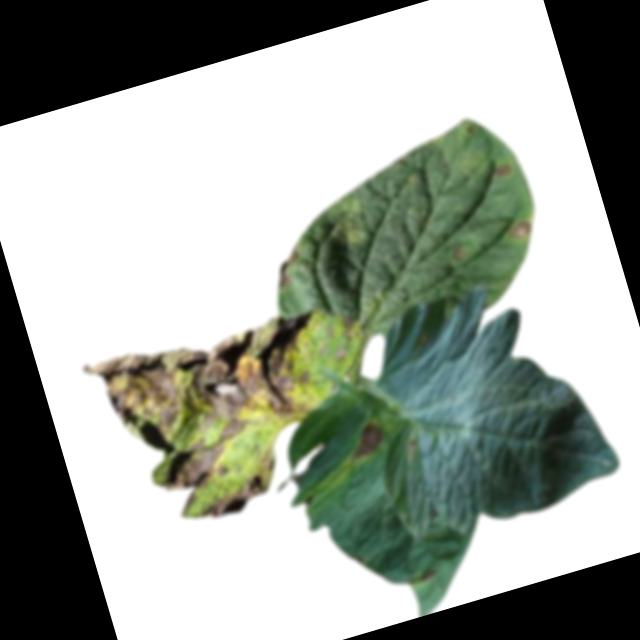Early_blight: (80, 299, 342, 505), (191, 468, 281, 527), (269, 245, 309, 289), (348, 420, 389, 459), (504, 217, 537, 241), (337, 313, 363, 340), (490, 160, 515, 179), (418, 565, 437, 583), (405, 435, 421, 455)
